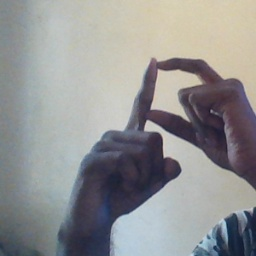D: (122, 54, 242, 157)
